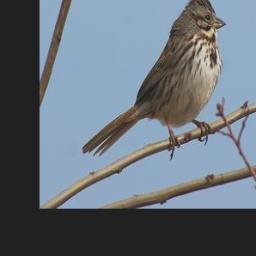Sparrow: (80, 0, 227, 159)
